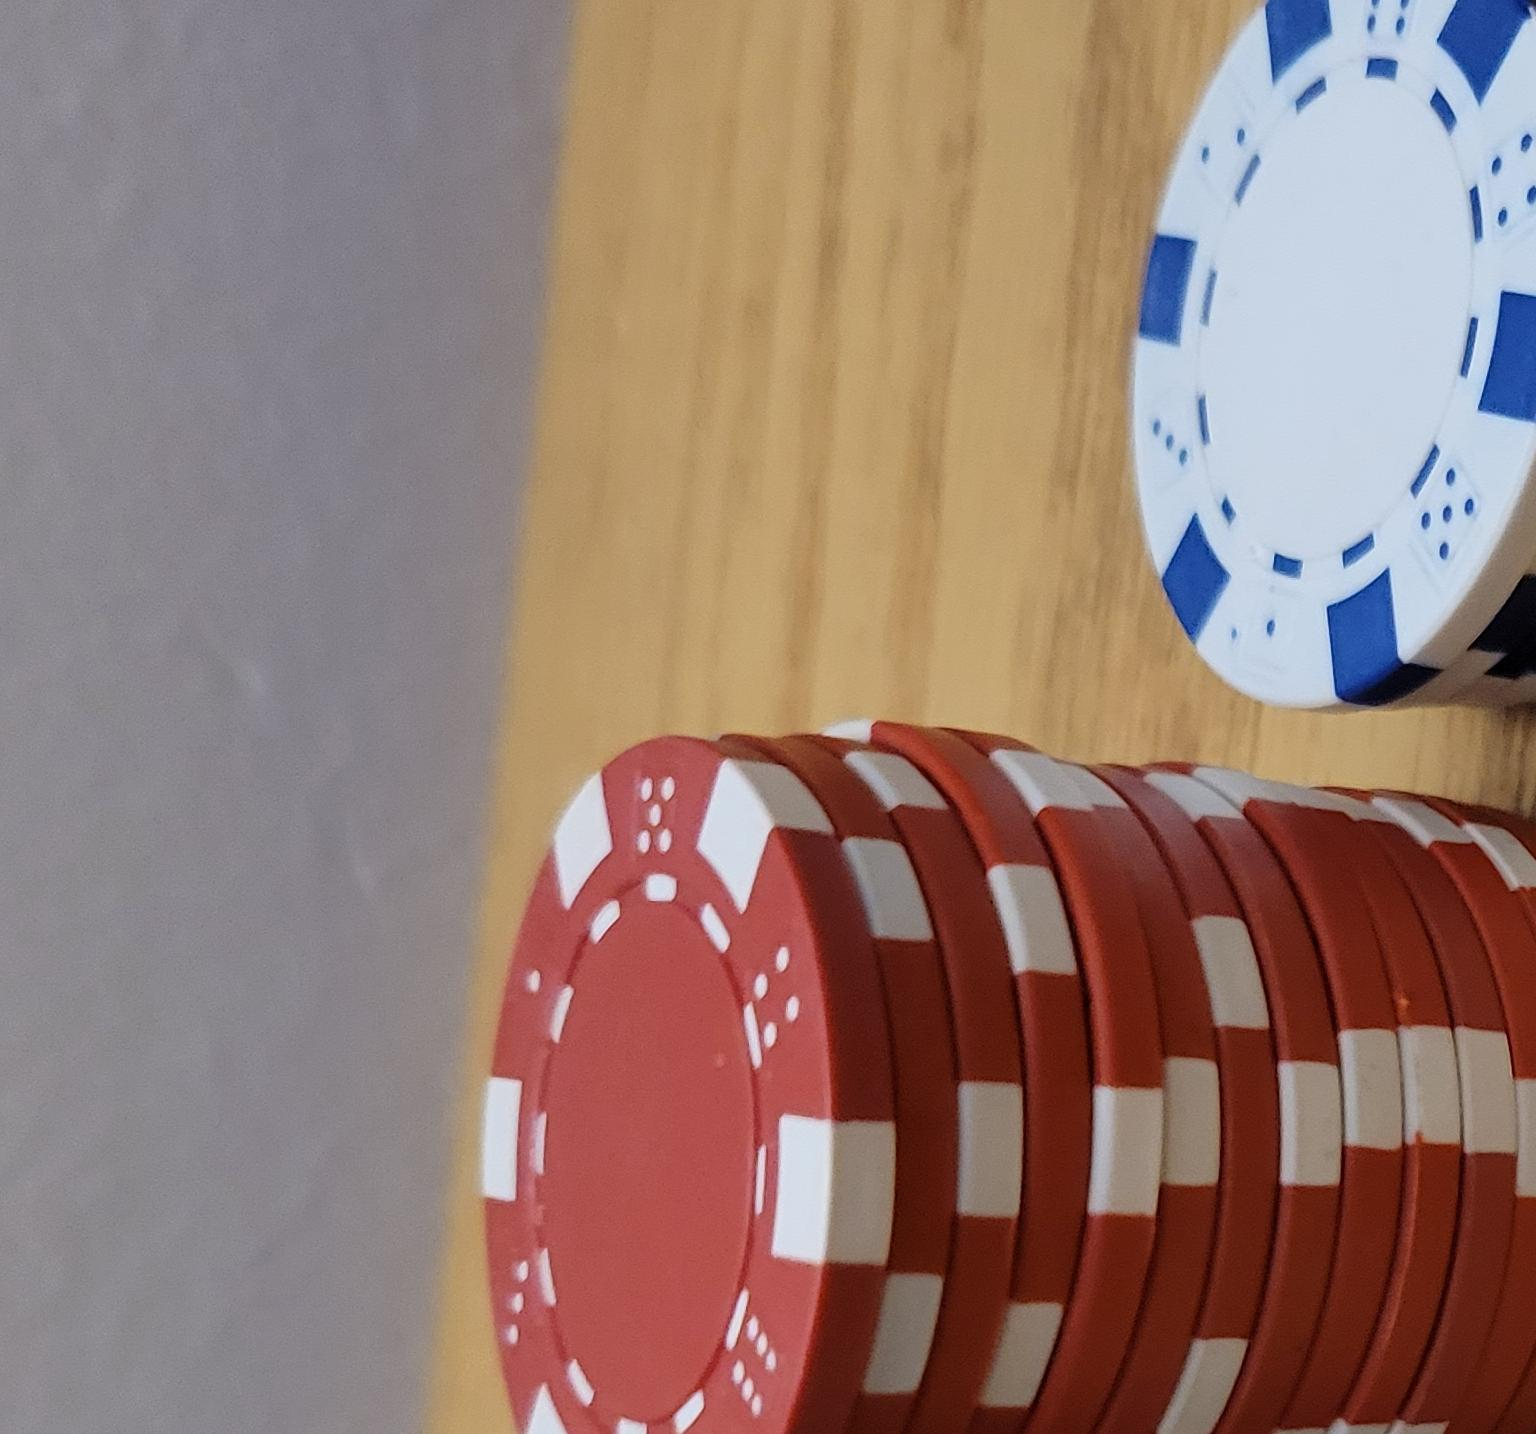Chip: (1, 73, 1086, 1434)
